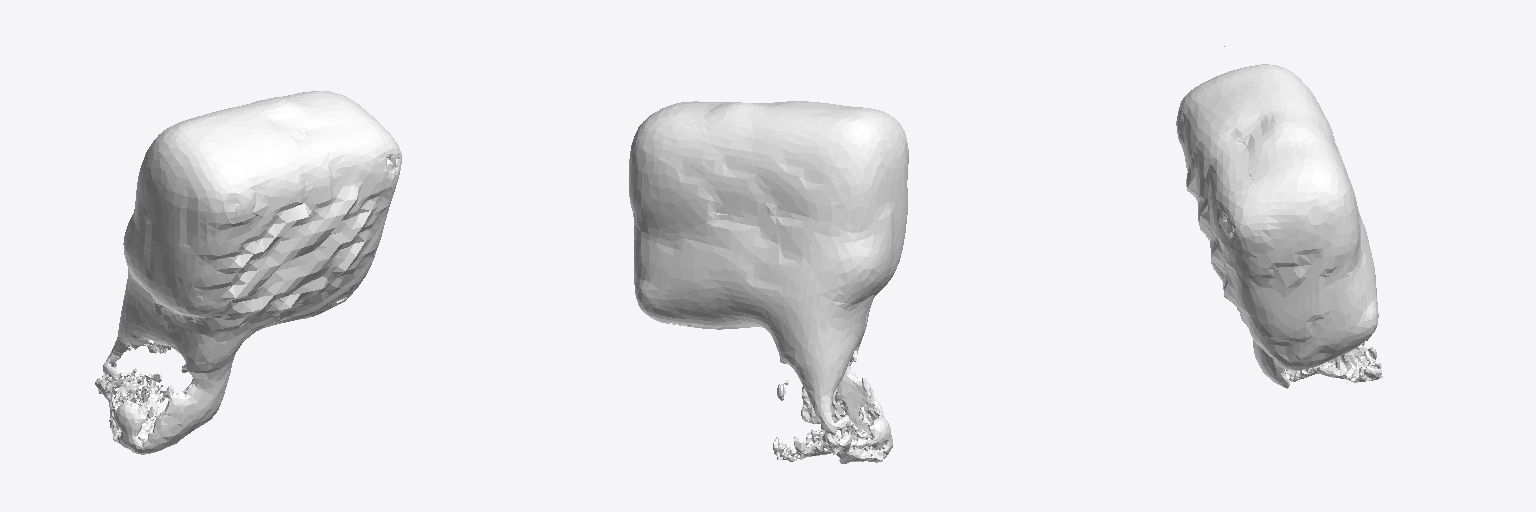
File: RoomDroneScanModel.obj
3 views of the same model, side by side, from view 1: azimuth 30°, elevation 25°; view 2: azimuth 150°, elevation 25°; view 3: azimuth 270°, elevation 25° (orthographic).
Bounding box in the file's own units: 8.47 × 10.77 × 5.92.